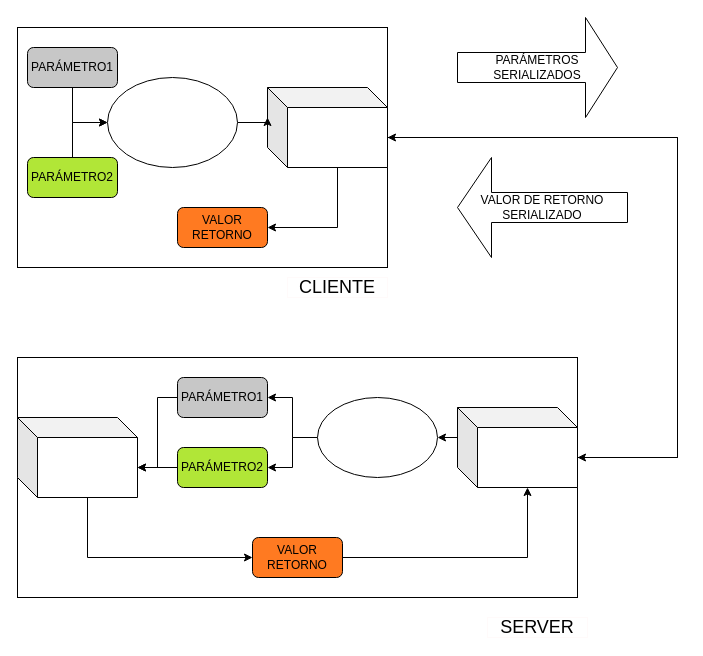
The diagram is 703 pixels wide and 656 high, and some of its shapes have lost their labels. The shapes that lost their labels are listed below. From the top down, each one's centre as x and y in pixels, then its label:
At point (172, 122): "INVOCACIÓN DEL MÉTODO DEL CLIENTE AL SERVIDOR".
At point (327, 127): "OBJETO STUB".
At point (77, 457): "SERVER OBJECT".
At point (377, 437): "INVOCACIÓN DEL METODO EN EL SERVIDOR".
At point (517, 447): "OBJETO SKELETON".
